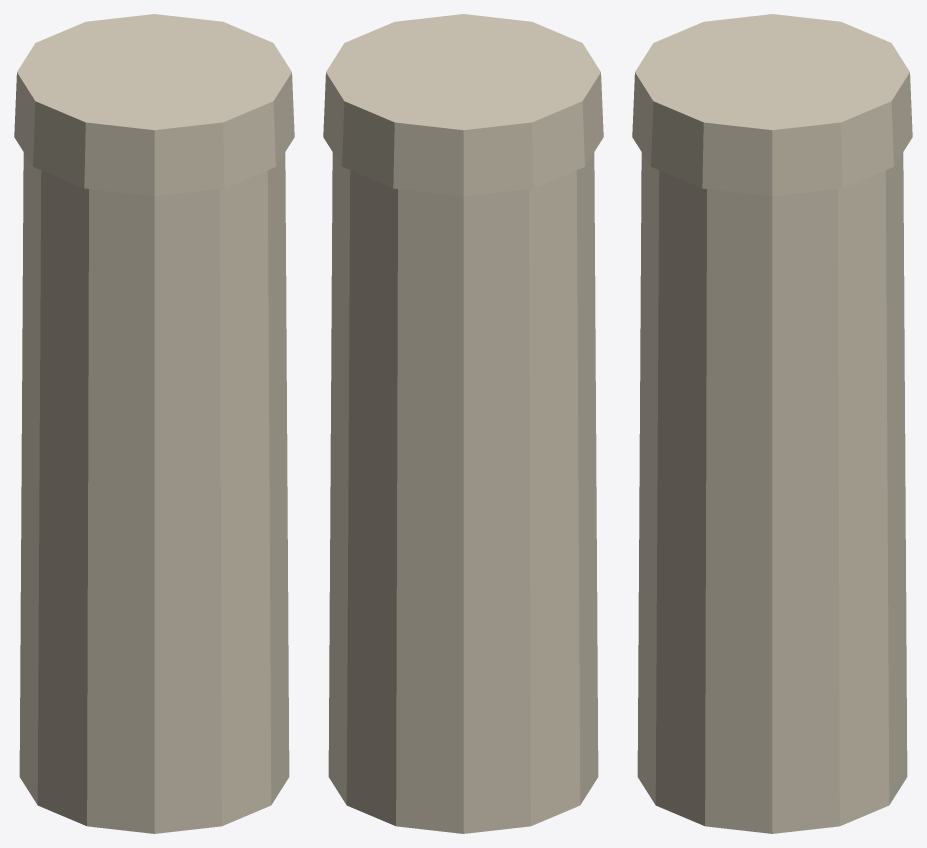
The model's file is coit-tower_lod1.glb.
3 views of the same model, side by side, from view 1: azimuth 30°, elevation 25°; view 2: azimuth 150°, elevation 25°; view 3: azimuth 270°, elevation 25° (orthographic).
Parts seen in each view (by area): view 1: coit-tower_lod1_stone; view 2: coit-tower_lod1_stone; view 3: coit-tower_lod1_stone.
Boxes of the visible parts, box(x1,y1,x2,y2) form: coit-tower_lod1_stone: box(14, 14, 294, 833); coit-tower_lod1_stone: box(323, 14, 603, 833); coit-tower_lod1_stone: box(632, 14, 912, 833).
Size of the model in its own units: 23.44 by 65 by 23.44.
